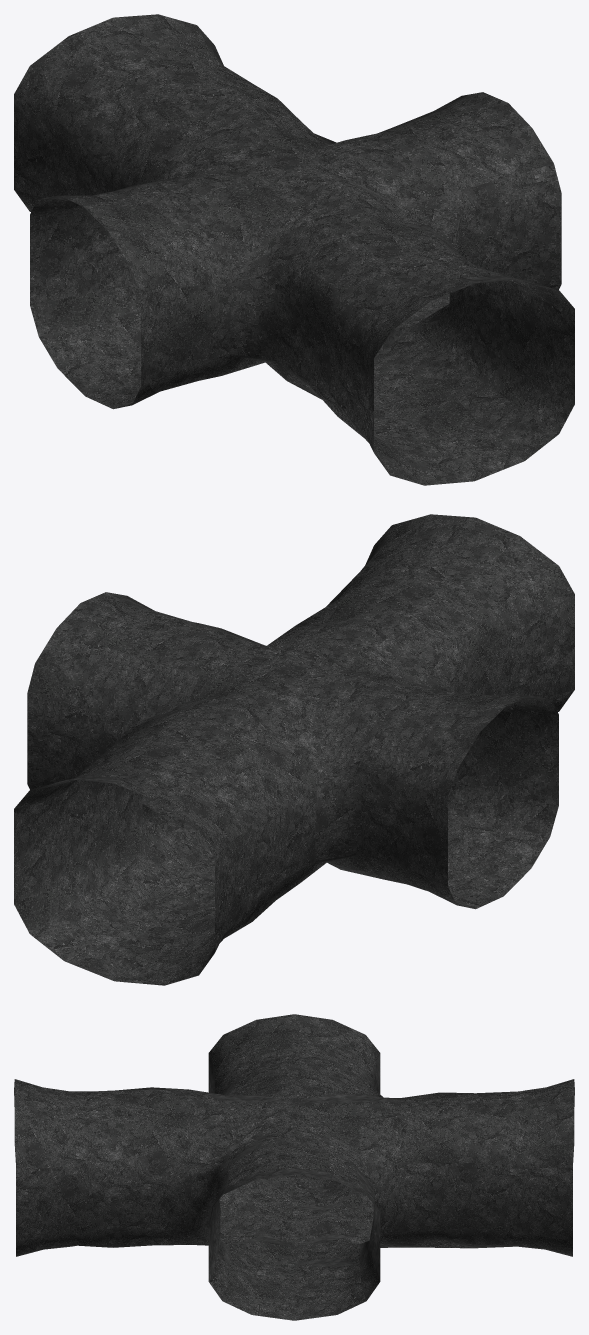
The model's file is CaveTIntersectionNarrow.glb.
3 renders of one model, top to bottom at view 1: azimuth 30°, elevation 25°; view 2: azimuth 150°, elevation 25°; view 3: azimuth 270°, elevation 25°, orthographic. The views are drawn at different scales.
Visible parts, largest first — view 1: Cube.107; view 2: Cube.107; view 3: Cube.107.
Part boxes in pixels (x1,y1,x2,y2): Cube.107: (14, 14, 574, 485); Cube.107: (14, 514, 574, 985); Cube.107: (14, 1014, 574, 1320).
Bounding box in the file's own units: 16.09 × 7.2 × 23.77.
1 material, 1 textured.
